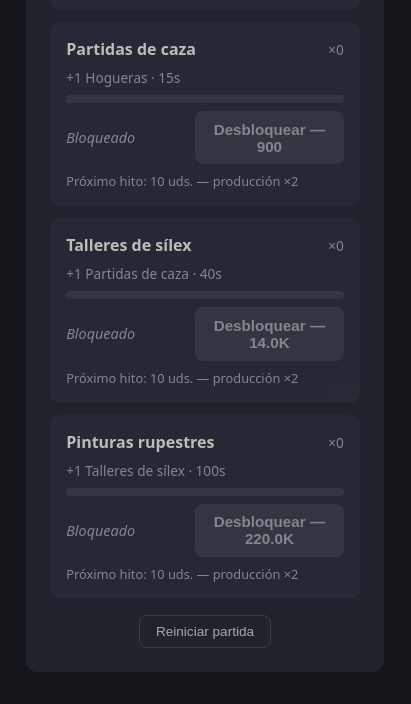
Scenario: App › reiniciar partida: tras confirmar, borra el save y vuelve al estado inicial
This screenshot has width=411, height=704.
(page scrolled)
Click the button "Reiniciar partida".
click(205, 631)  # box [139, 615, 271, 648]
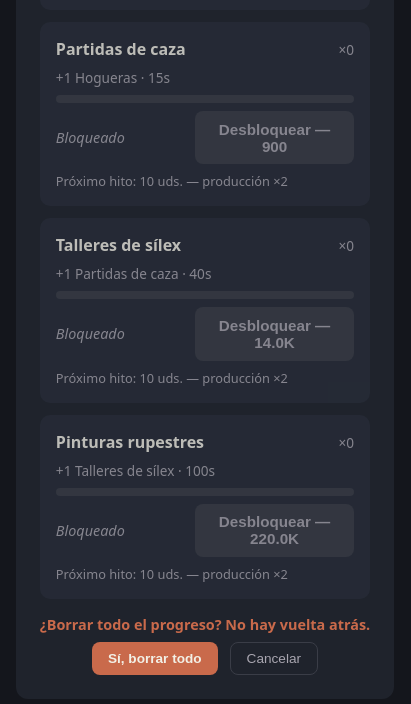
Click the button "Sí, borrar todo".
click(155, 658)  # box [92, 642, 218, 675]
(page scrolled)
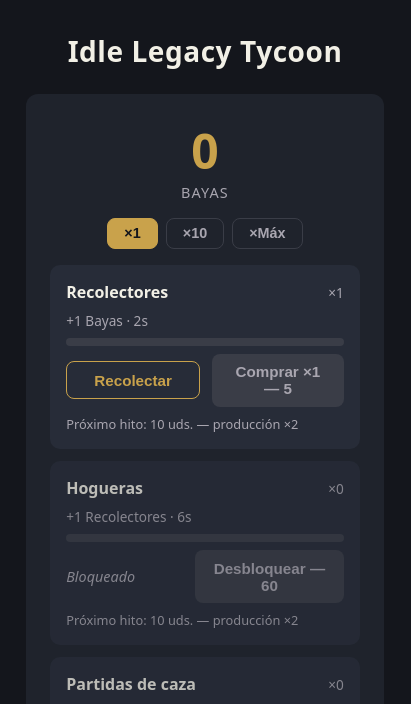
Result: the text named "Bayas" reads "0" at [191, 118, 219, 183]
Result: the text "×1" is shown at [328, 283, 344, 302]
